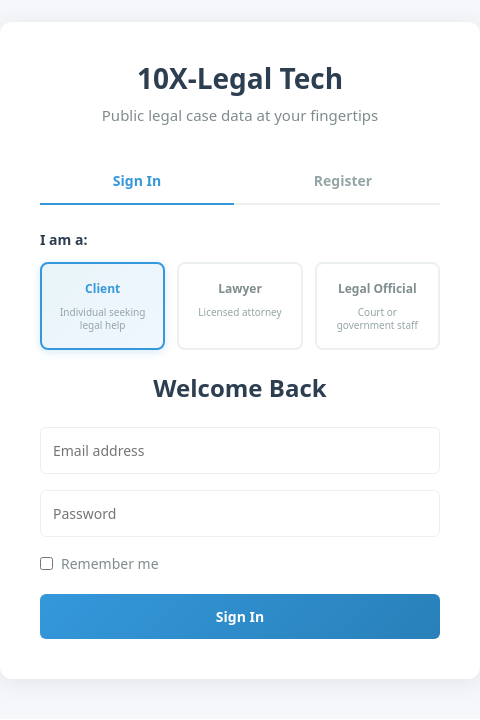
it: Landing › shows legal official fields when legal-official role selected in register
Click the button "Register": coordinates (343, 181) [246,158,440,203]
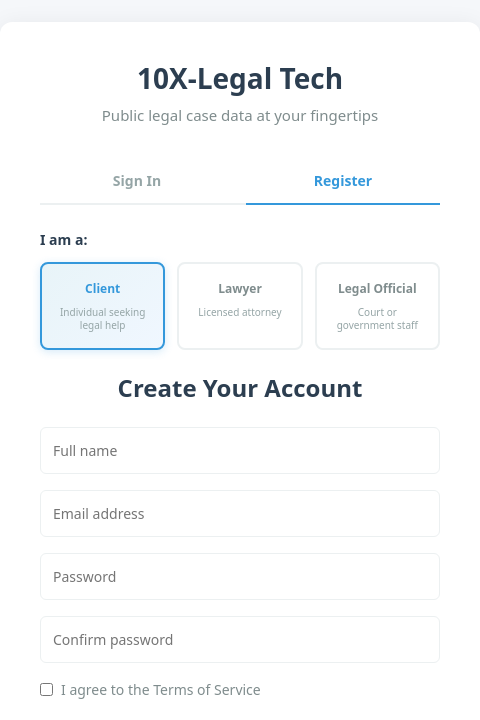
Click the text "Legal Official": coordinates (377, 289) [338,280,417,298]
(page scrolled)
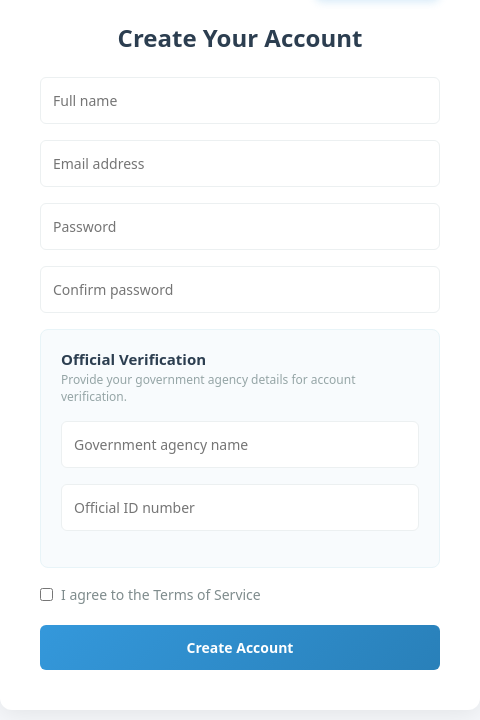
Now the heading "Official Verification" is shown, box [61,349,206,369]
Now the field with placeholder "Government agency name" is shown, box [61,422,419,468]
Now the field with placeholder "Official ID number" is shown, box [61,484,419,532]
